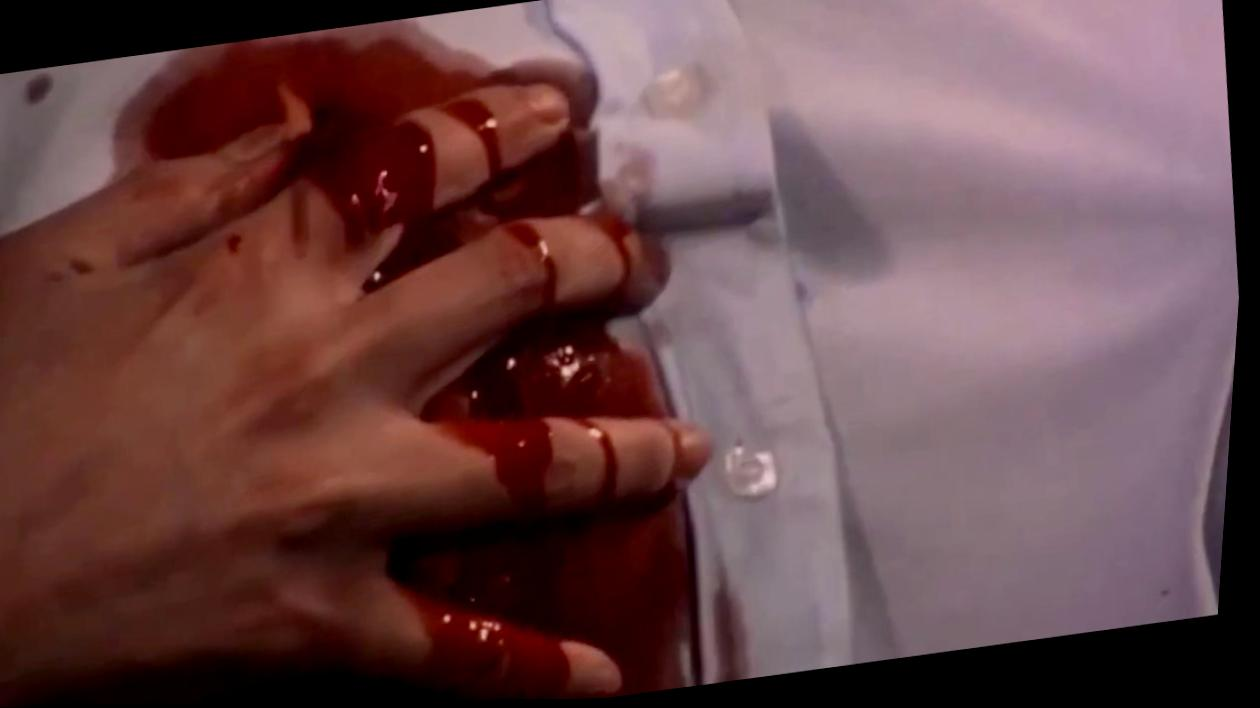Fire: (65, 20, 753, 702), (22, 72, 56, 105)
